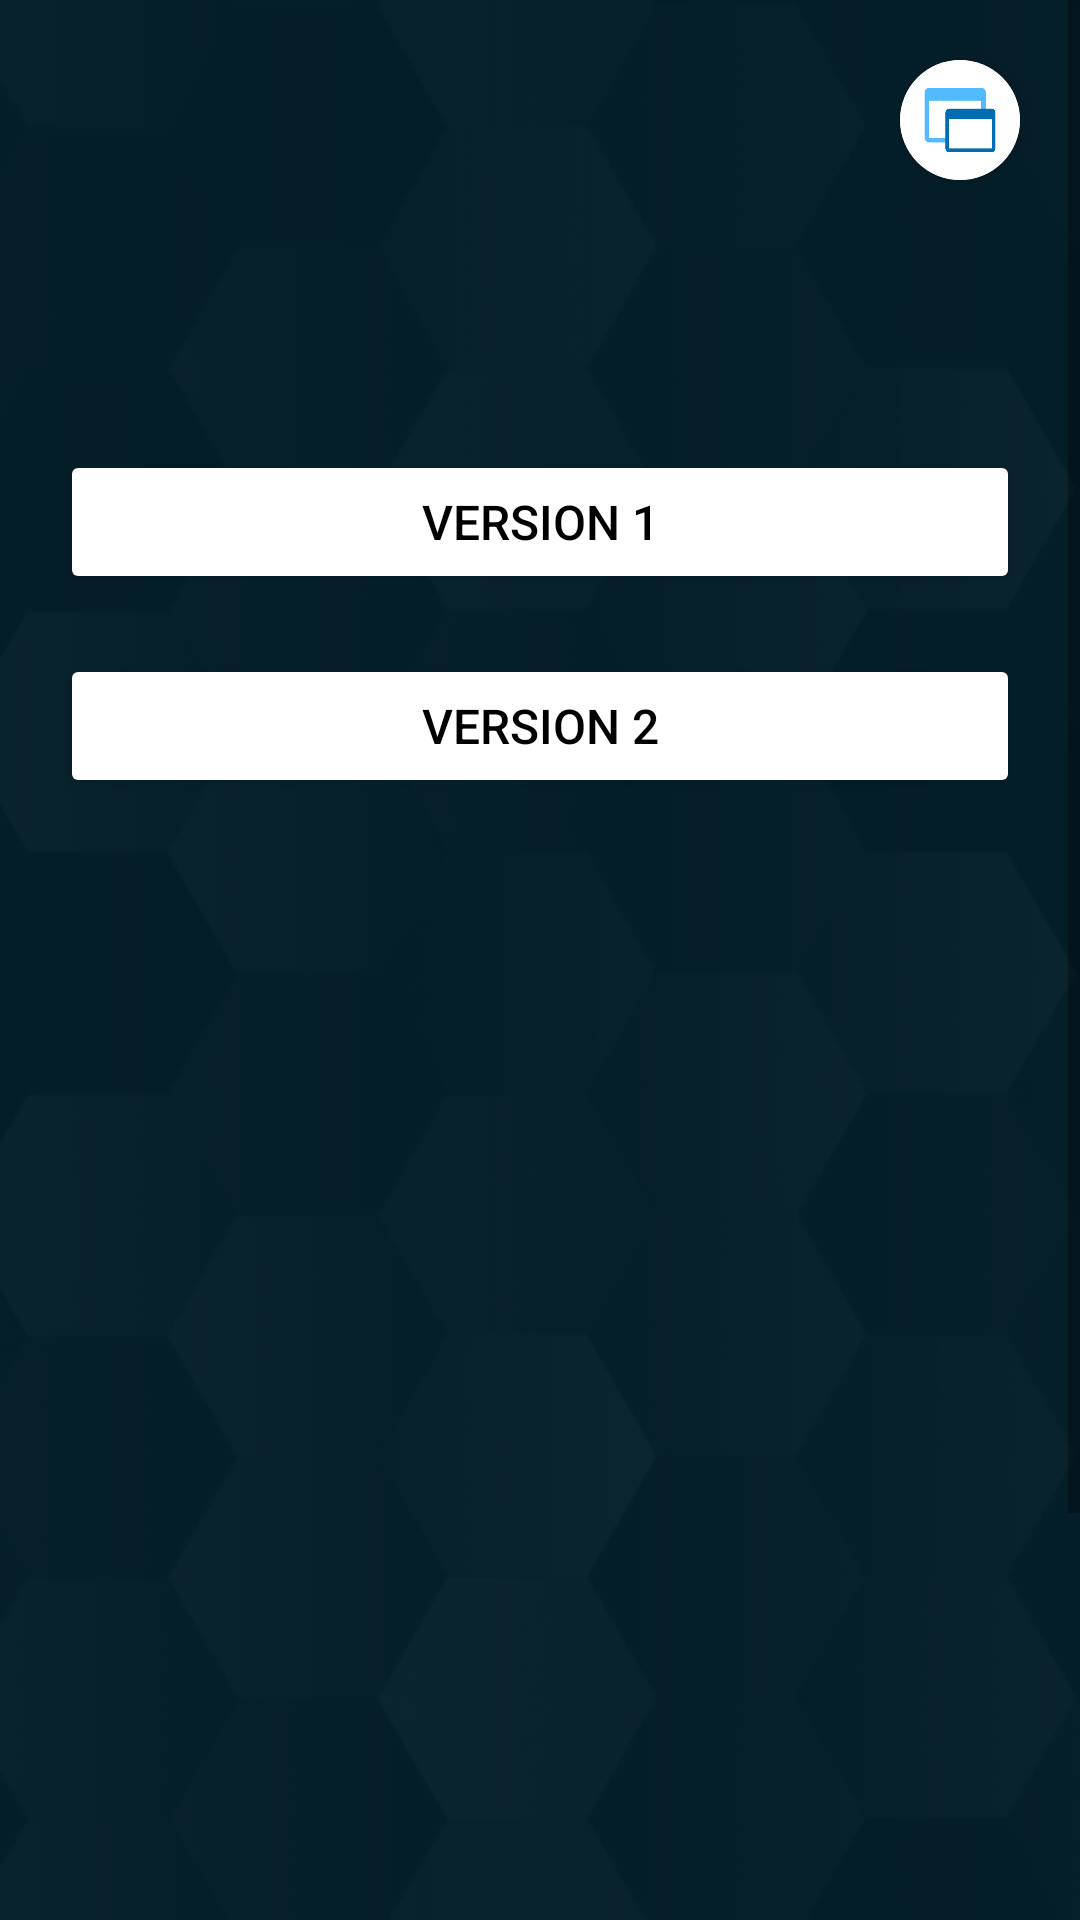

Icon bounding boxes for this 1080*1920 phone screenshot, format (x1, y1, x2, y2):
floating: (900, 60, 1020, 180)
